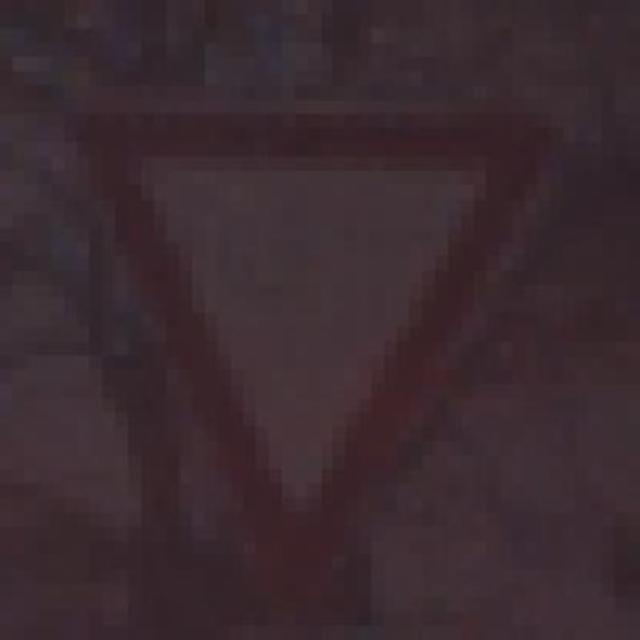Give Way: (76, 57, 615, 626)
